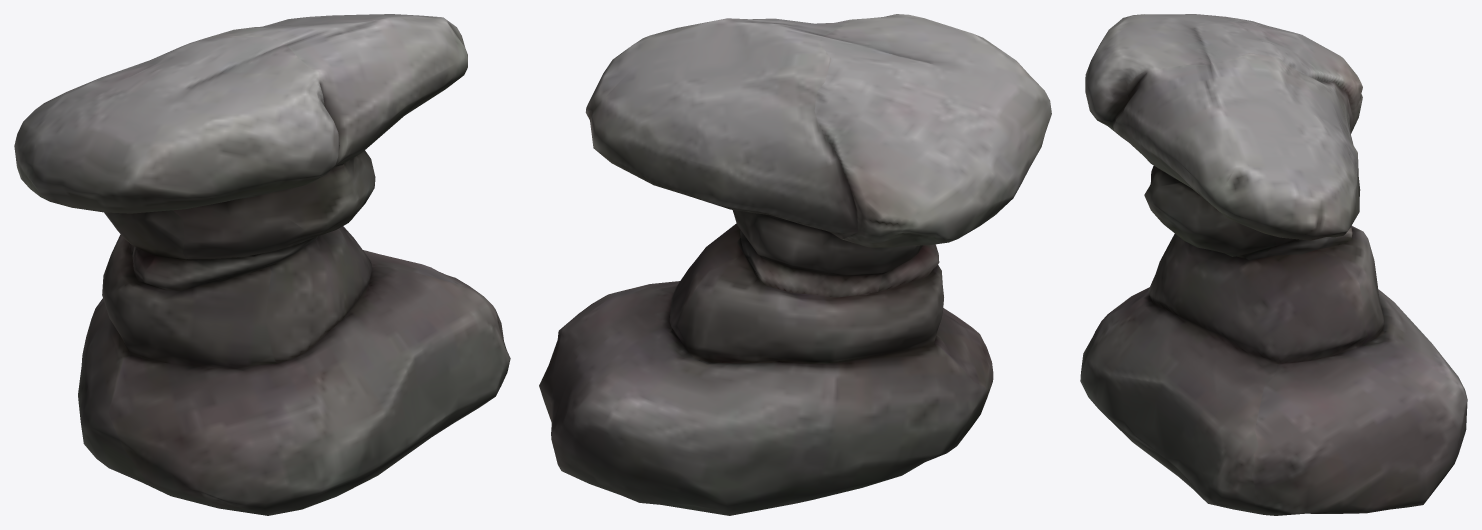
File: stylized-rock-08.glb
3 views of the same model, side by side, from view 1: azimuth 30°, elevation 25°; view 2: azimuth 150°, elevation 25°; view 3: azimuth 270°, elevation 25° (orthographic). The views are drawn at different scales.
Parts seen in each view (by area): view 1: Mid_5; view 2: Mid_5; view 3: Mid_5.
Boxes of the visible parts, x1=… form: Mid_5: x1=14, y1=14, x2=510, y2=515; Mid_5: x1=539, y1=14, x2=1051, y2=515; Mid_5: x1=1080, y1=14, x2=1467, y2=515.
Size of the model in its own units: 4.74 by 4.2 by 3.83.
1 material, 1 textured.
